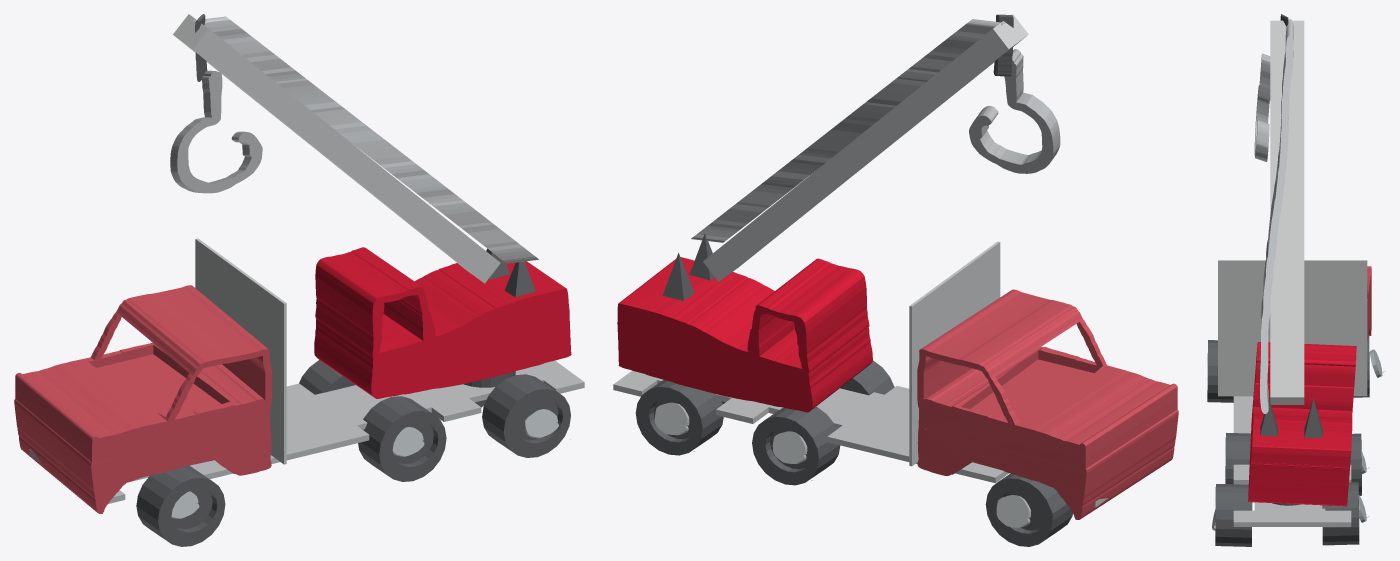
The model's file is Truck Crane.glb.
3 views of the same model, side by side, from view 1: azimuth 30°, elevation 25°; view 2: azimuth 150°, elevation 25°; view 3: azimuth 270°, elevation 25° (orthographic). The views are drawn at different scales.
Visible parts, largest first — view 1: Mesh_Mesh_head_geo.001_lambert2SG.001; view 2: Mesh_Mesh_head_geo.001_lambert2SG.001; view 3: Mesh_Mesh_head_geo.001_lambert2SG.001.
Part boxes in pixels (x1=…): Mesh_Mesh_head_geo.001_lambert2SG.001: x1=14, y1=14, x2=584, y2=546; Mesh_Mesh_head_geo.001_lambert2SG.001: x1=613, y1=14, x2=1178, y2=546; Mesh_Mesh_head_geo.001_lambert2SG.001: x1=1207, y1=14, x2=1385, y2=546.
Bounding box in the file's own units: 184 × 172 × 68.
